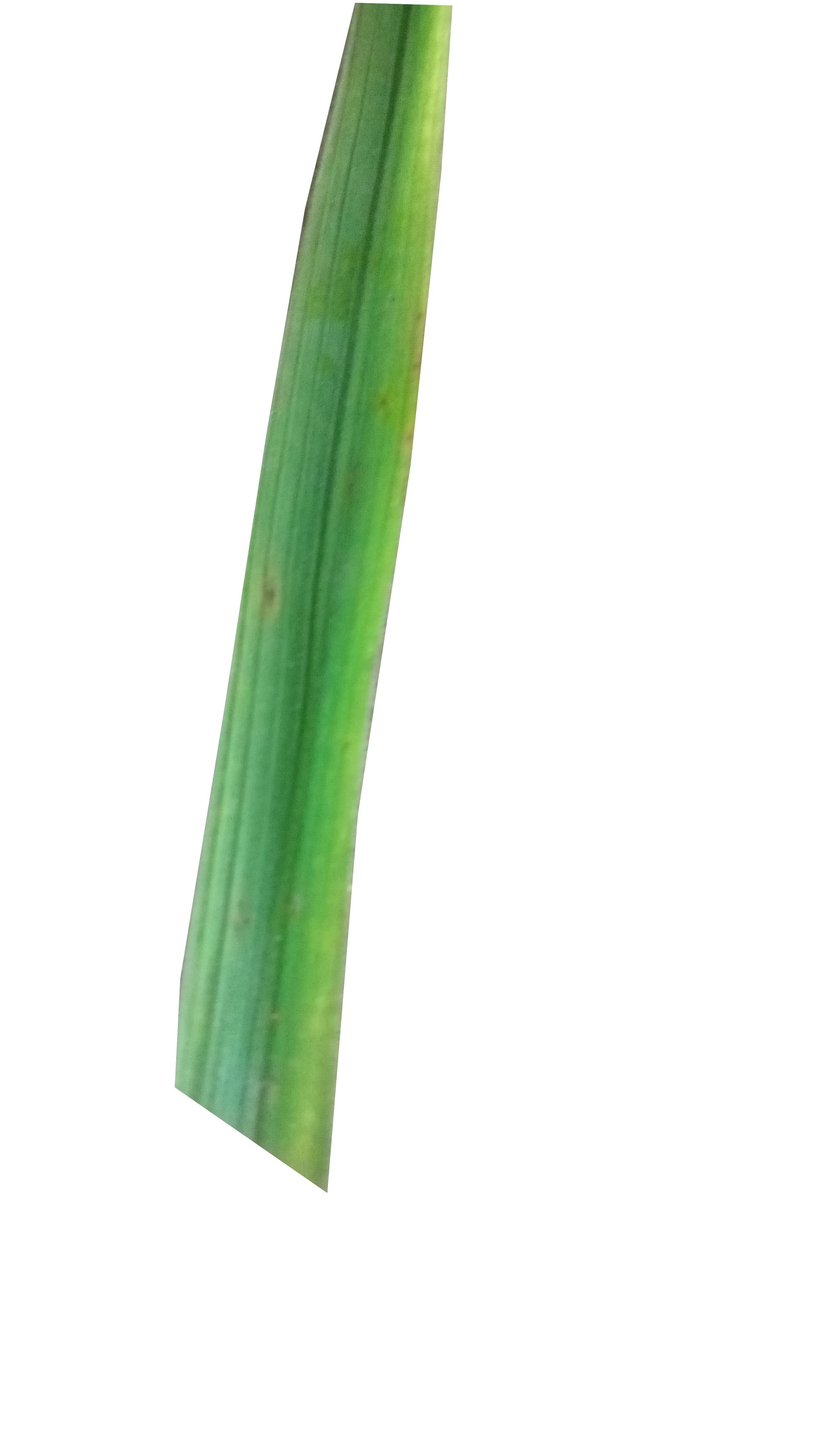Brown spot: (257, 556, 281, 615)
Tungro: (233, 737, 354, 1185), (334, 10, 448, 400)
